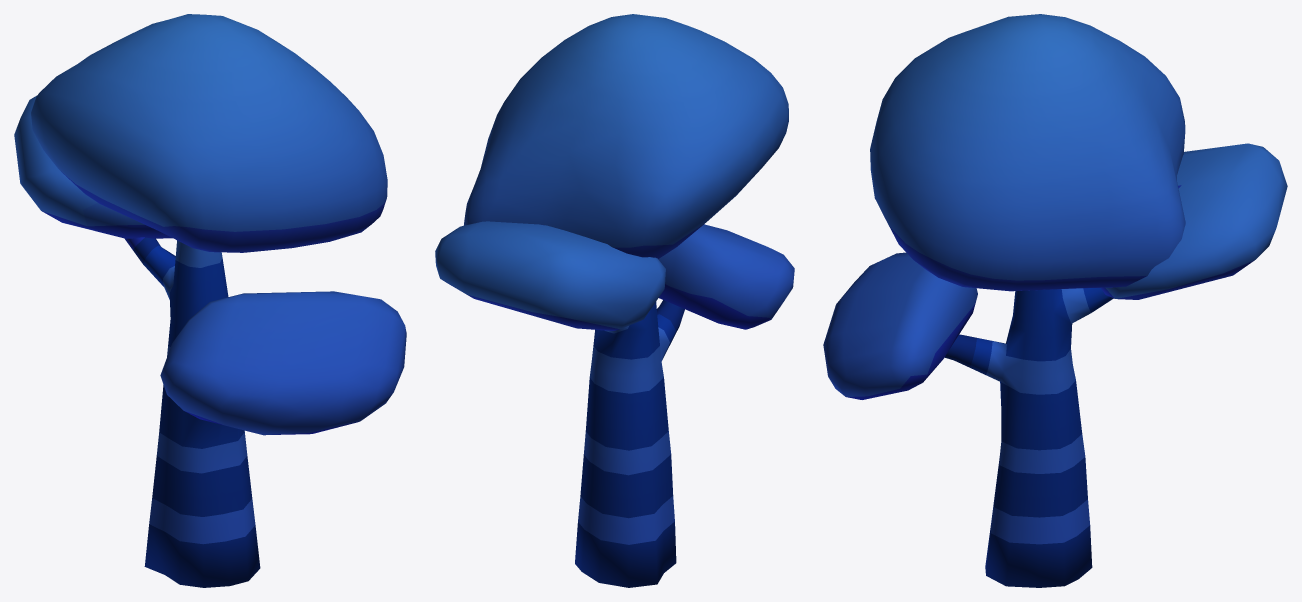
Rendered from Arbre.fbx.
The picture shows the model from 3 angles, left to right: view 1: azimuth 30°, elevation 25°; view 2: azimuth 150°, elevation 25°; view 3: azimuth 270°, elevation 25°; orthographic projection.
Parts seen in each view (by area): view 1: Cube, Cube.001, Cylinder, Cube.002; view 2: Cube, Cylinder, Cube.002, Cube.001; view 3: Cube, Cylinder, Cube.001, Cube.002.
Part boxes in pixels (x1=…): Cube: x1=31, y1=14, x2=387, y2=252; Cube.001: x1=160, y1=291, x2=406, y2=435; Cylinder: x1=124, y1=237, x2=260, y2=587; Cube.002: x1=14, y1=95, x2=172, y2=238; Cube: x1=463, y1=14, x2=788, y2=258; Cylinder: x1=575, y1=300, x2=684, y2=587; Cube.002: x1=435, y1=221, x2=665, y2=330; Cube.001: x1=658, y1=224, x2=794, y2=329; Cube: x1=870, y1=14, x2=1185, y2=291; Cylinder: x1=944, y1=288, x2=1113, y2=587; Cube.001: x1=823, y1=252, x2=977, y2=399; Cube.002: x1=1101, y1=143, x2=1287, y2=299.
Size of the model in its own units: 703 by 1317 by 1028.
